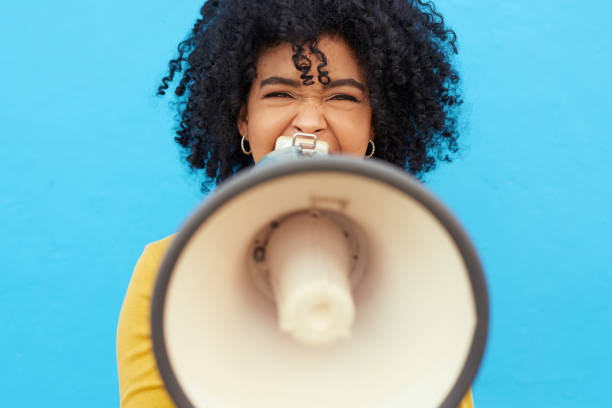without mask: (238, 46, 381, 180)
